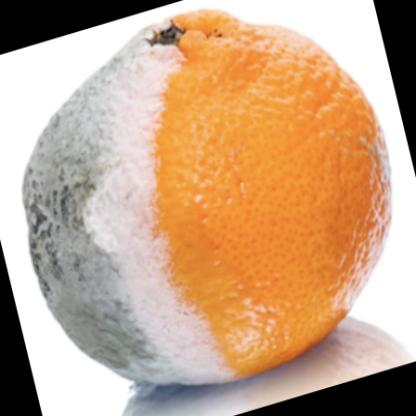rotten: (27, 10, 394, 387)
